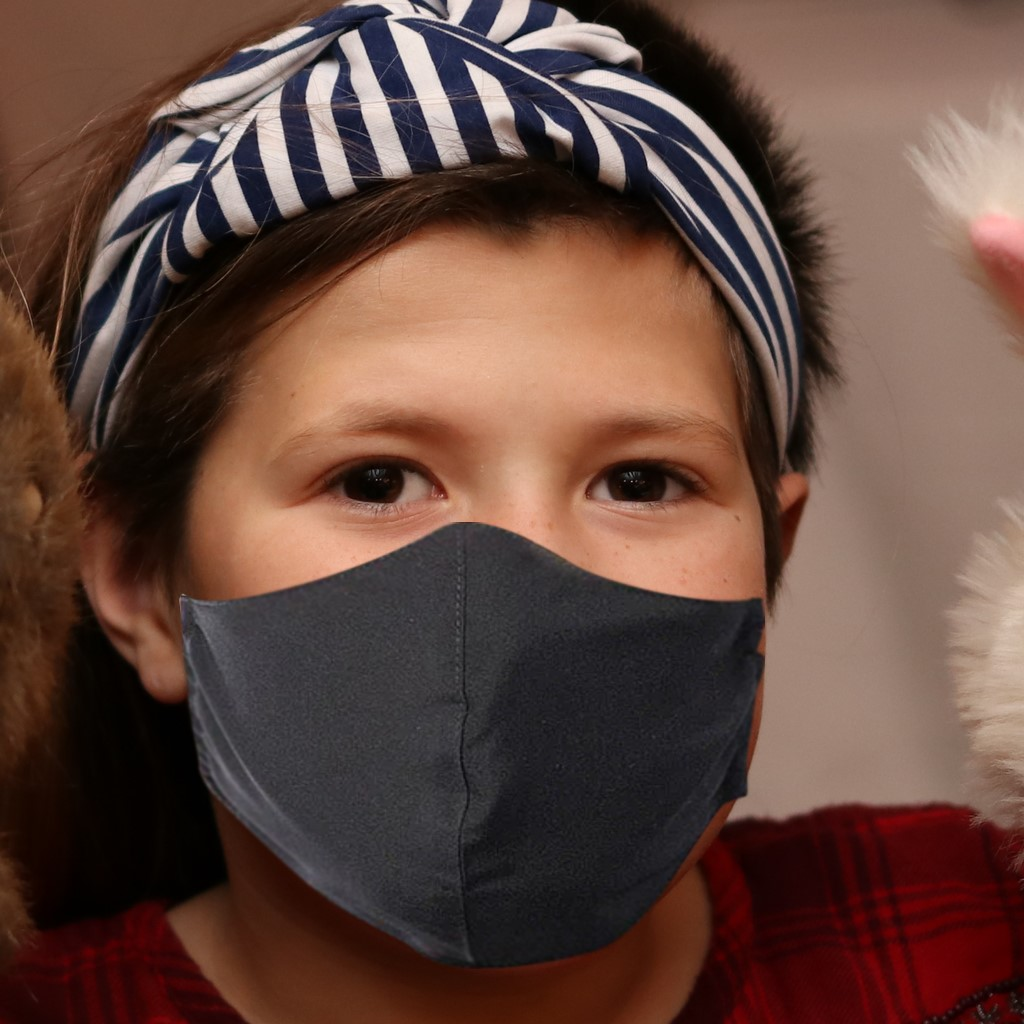con_mascara: (109, 118, 796, 959)
